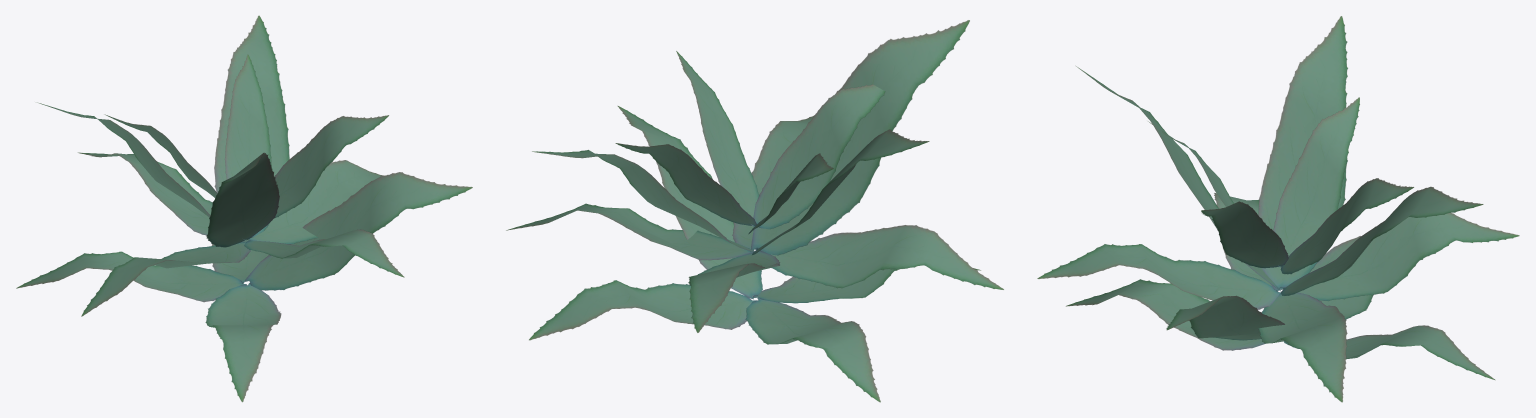
File: agave.glb
3 renders of one model, left to right at view 1: azimuth 30°, elevation 25°; view 2: azimuth 150°, elevation 25°; view 3: azimuth 270°, elevation 25°, orthographic. The views are drawn at different scales.
Parts seen in each view (by area): view 1: plant_w; view 2: plant_w; view 3: plant_w.
Boxes of the visible parts, <box> form: plant_w: <box>16,15,472,402</box>; plant_w: <box>506,20,1003,402</box>; plant_w: <box>1037,16,1519,402</box>.
Size of the model in its own units: 1.5 by 0.85 by 1.49.
Materials: 1 (1 with a texture image).
